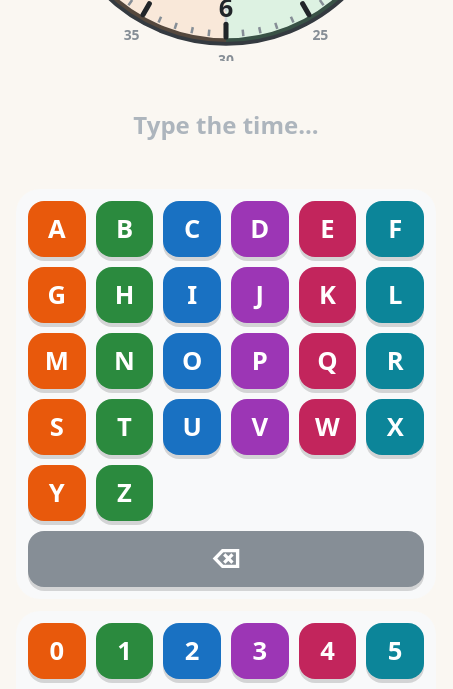
Test case: ClockGame on touch devices › on-screen keypad (touch-only screens) › offers letter shortcuts and number keys on medium
The width and height of the screenshot is (453, 689).
(page scrolled)
Expected: the element named "Letter keyboard" is shown, [16, 189, 436, 599]
Click the button with test id "child-key-Q". click: coordinates (328, 361)
box: [299, 333, 356, 389]
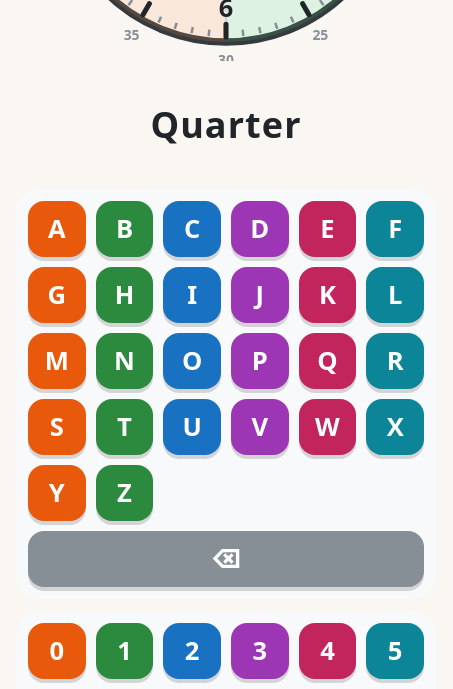
Click the button with test id "child-key-P". click: coordinates (260, 361)
box: [231, 333, 289, 389]
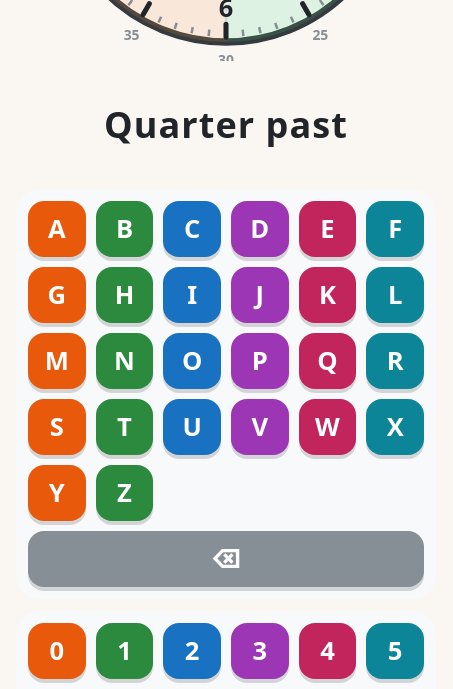
Click the button with test id "child-key-1". click: coordinates (125, 651)
box: [96, 623, 153, 679]
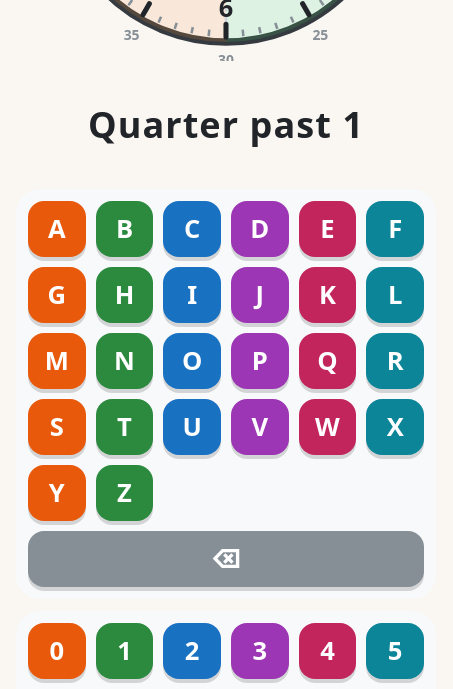
Now the text with test id "revealed-text" reads "Quarter past 1", box [88, 100, 364, 149]
